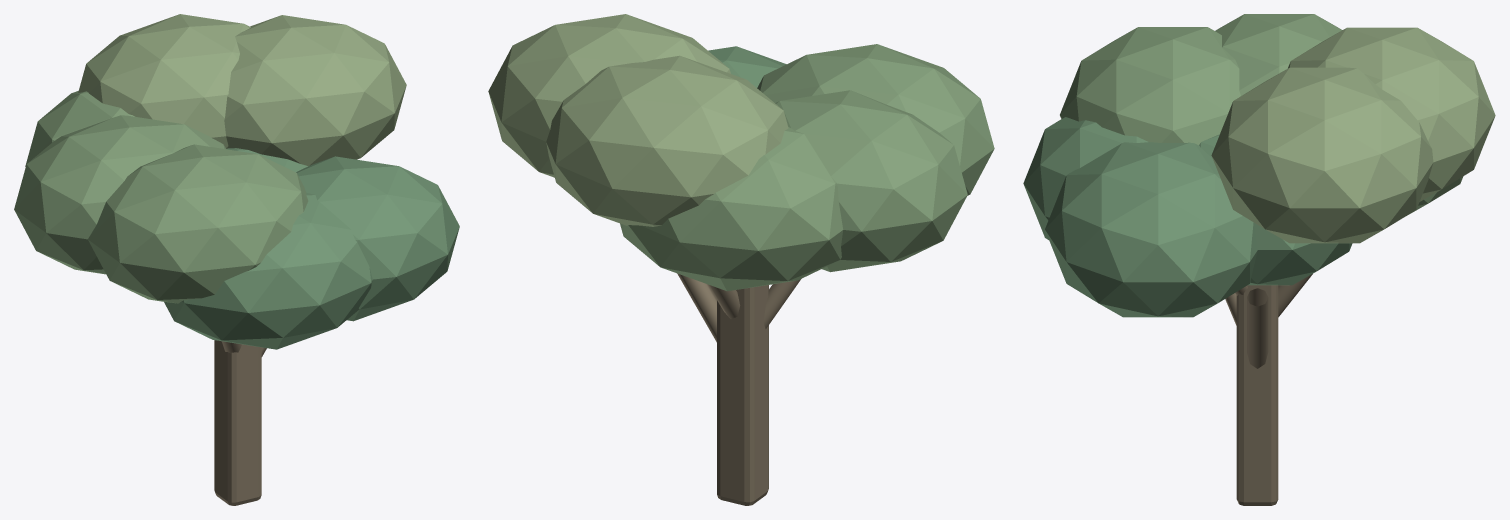
File: tree-coastal-high.glb
3 views of the same model, side by side, from view 1: azimuth 30°, elevation 25°; view 2: azimuth 150°, elevation 25°; view 3: azimuth 270°, elevation 25° (orthographic). The views are drawn at different scales.
Visible parts, largest first — view 1: core-Foliage 1-surfaces, core-Foliage 2-surfaces, core-Foliage 0-surfaces, core-Weathered bark-surfaces; view 2: core-Foliage 1-surfaces, core-Foliage 2-surfaces, core-Weathered bark-surfaces, core-Foliage 0-surfaces; view 3: core-Foliage 2-surfaces, core-Foliage 0-surfaces, core-Foliage 1-surfaces, core-Weathered bark-surfaces.
Part boxes in pixels (x1,y1,x2,y2): core-Foliage 1-surfaces: (14,91,308,303); core-Foliage 2-surfaces: (78,14,406,165); core-Foliage 0-surfaces: (164,148,459,349); core-Weathered bark-surfaces: (214,340,266,505); core-Foliage 1-surfaces: (620,44,994,291); core-Foliage 2-surfaces: (488,14,788,226); core-Weathered bark-surfaces: (677,273,800,505); core-Foliage 0-surfaces: (708,46,786,87); core-Foliage 2-surfaces: (1211,27,1495,243); core-Foliage 0-surfaces: (1023,117,1352,317); core-Foliage 1-surfaces: (1060,14,1463,214); core-Weathered bark-surfaces: (1225,274,1312,505).
Bounding box in the file's own units: 4.01 × 4.3 × 3.96.
